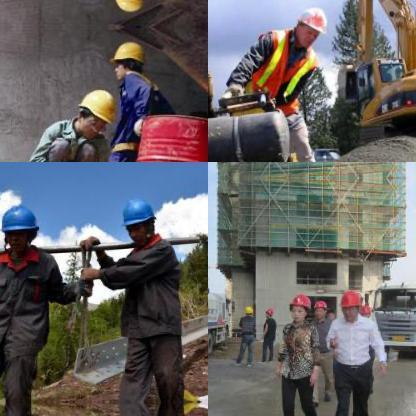Helmet: (69, 84, 119, 136), (0, 200, 41, 254), (116, 192, 156, 244), (106, 37, 146, 81), (290, 2, 328, 46), (336, 287, 360, 319), (286, 292, 310, 321), (106, 0, 147, 14), (310, 296, 326, 320), (261, 304, 275, 318), (244, 302, 252, 316)
